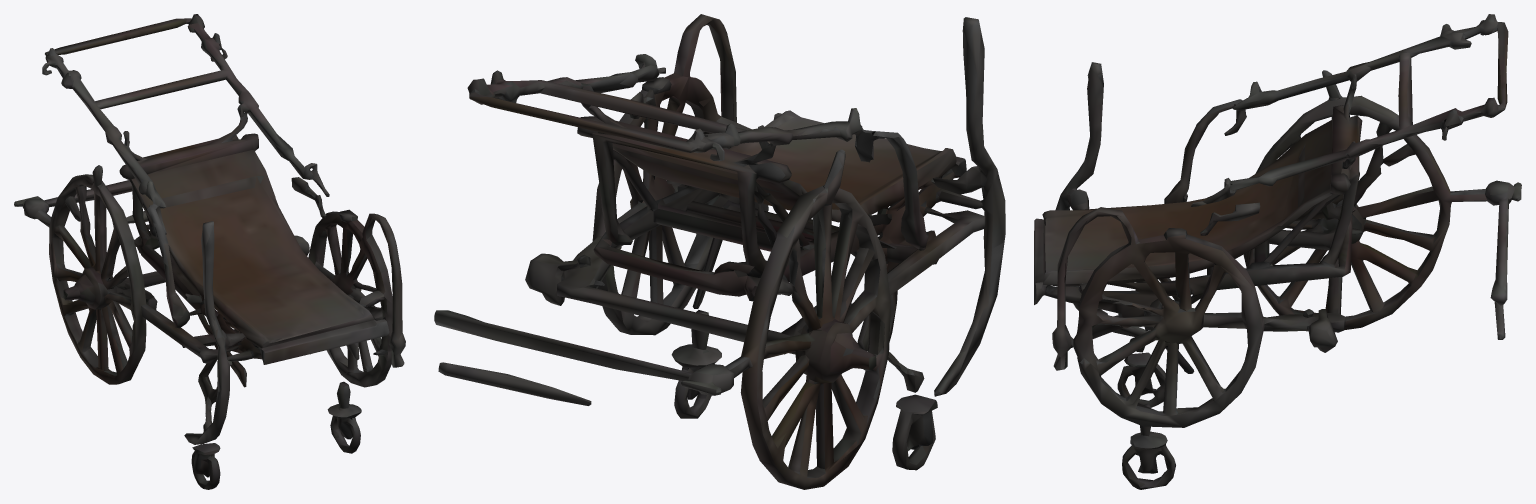
The model's file is ornate-iron-gurney-v001.glb.
3 renders of one model, left to right at view 1: azimuth 30°, elevation 25°; view 2: azimuth 150°, elevation 25°; view 3: azimuth 270°, elevation 25°, orthographic. The views are drawn at different scales.
Visible parts, largest first — view 1: ornate-iron-gurney; view 2: ornate-iron-gurney; view 3: ornate-iron-gurney.
Part boxes in pixels (x1,y1,x2,y2): ornate-iron-gurney: [14, 14, 405, 489]; ornate-iron-gurney: [434, 14, 1005, 489]; ornate-iron-gurney: [1034, 14, 1521, 489].
Size of the model in its own units: 0.7234 by 0.9801 by 1.11.
Materials: 1 (1 with a texture image).
